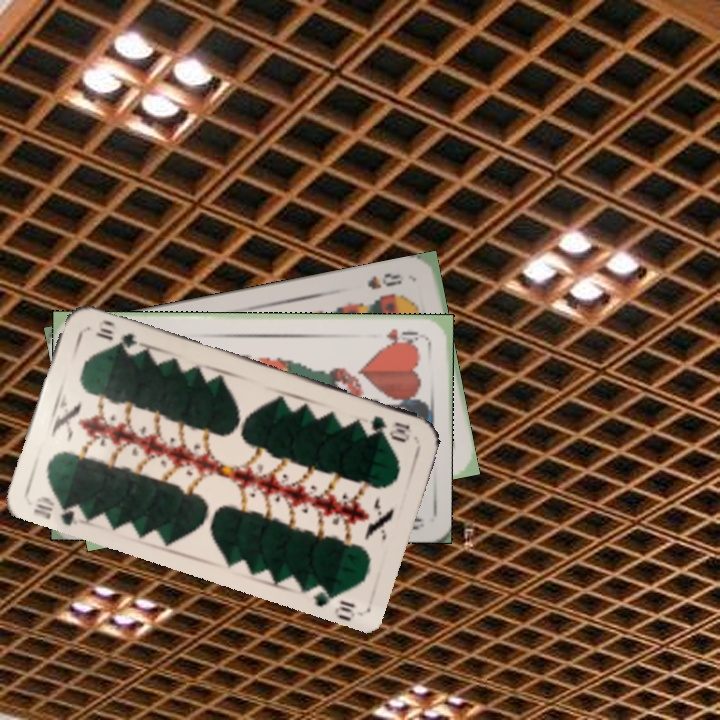G10: (29, 492, 87, 528), (366, 411, 415, 444)
HO: (382, 325, 421, 348)
S8: (363, 269, 405, 292)
